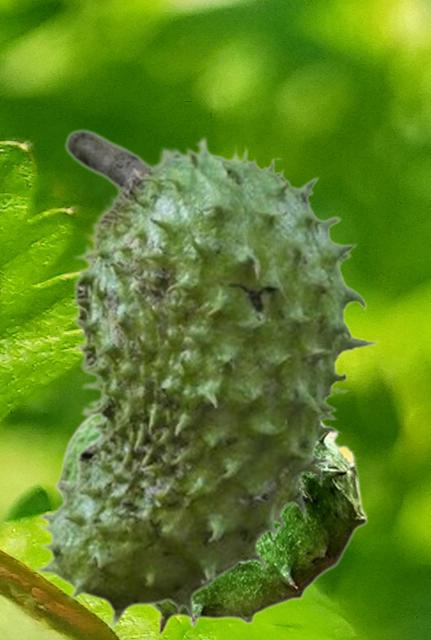guyabano: (32, 128, 379, 629), (55, 418, 367, 635)
